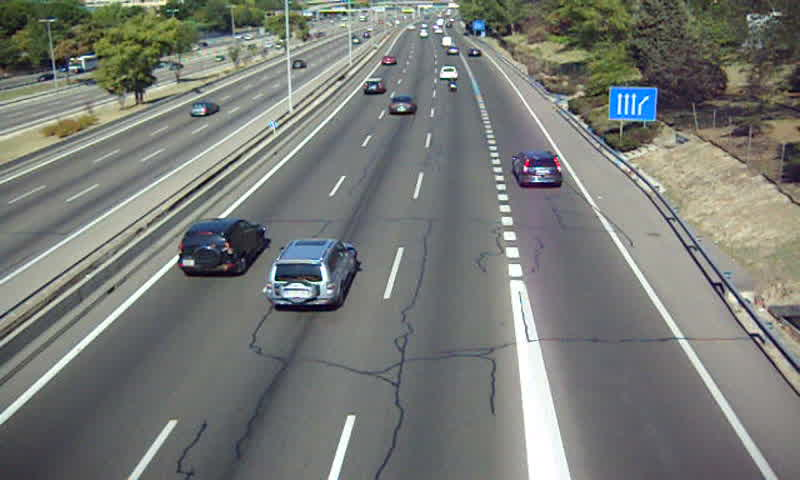car: (269, 239, 357, 309), (179, 219, 262, 278), (514, 154, 563, 186), (386, 95, 418, 116), (363, 78, 387, 96), (438, 65, 458, 79), (380, 55, 399, 66)
motorcycle: (447, 78, 459, 93)
